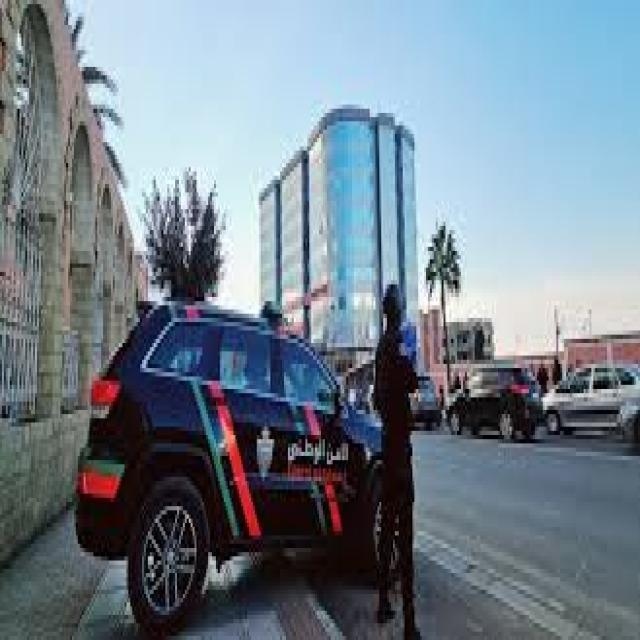Police car: (70, 290, 417, 631)
